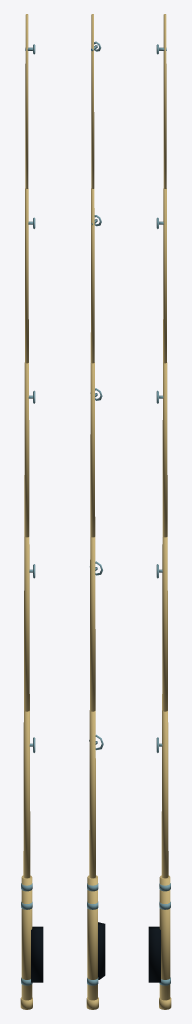
Rendered from fly_rod.glb.
The picture shows the model from 3 angles, left to right: view 1: azimuth 90°, elevation 25°; view 2: azimuth 150°, elevation 25°; view 3: azimuth 270°, elevation 25°; orthographic projection.
Visible parts, largest first — view 1: fly_rod_Handle, fly_rod_Segment1, fly_rod_Segment2, fly_rod_Segment3, fly_rod_Segment4, fly_rod_Segment5; view 2: fly_rod_Handle, fly_rod_Segment1, fly_rod_Segment2, fly_rod_Segment3, fly_rod_Segment4, fly_rod_Segment5; view 3: fly_rod_Handle, fly_rod_Segment1, fly_rod_Segment2, fly_rod_Segment3, fly_rod_Segment4, fly_rod_Segment5.
Boxes of the visible parts, x1,y1,x2,y2 form: fly_rod_Handle: [20, 875, 43, 1009]; fly_rod_Segment1: [23, 710, 35, 878]; fly_rod_Segment2: [24, 537, 35, 711]; fly_rod_Segment3: [24, 362, 35, 537]; fly_rod_Segment4: [25, 188, 35, 363]; fly_rod_Segment5: [25, 14, 35, 188]; fly_rod_Handle: [86, 875, 105, 1009]; fly_rod_Segment1: [89, 710, 103, 878]; fly_rod_Segment2: [89, 537, 102, 711]; fly_rod_Segment3: [90, 362, 102, 537]; fly_rod_Segment4: [90, 188, 101, 363]; fly_rod_Segment5: [91, 14, 101, 188]; fly_rod_Handle: [148, 875, 171, 1009]; fly_rod_Segment1: [156, 710, 168, 878]; fly_rod_Segment2: [156, 537, 167, 711]; fly_rod_Segment3: [156, 362, 167, 537]; fly_rod_Segment4: [156, 188, 166, 363]; fly_rod_Segment5: [156, 14, 166, 188].
Size of the model in its own units: 0.042 by 2.68 by 0.0549.
1 material, 1 textured.
